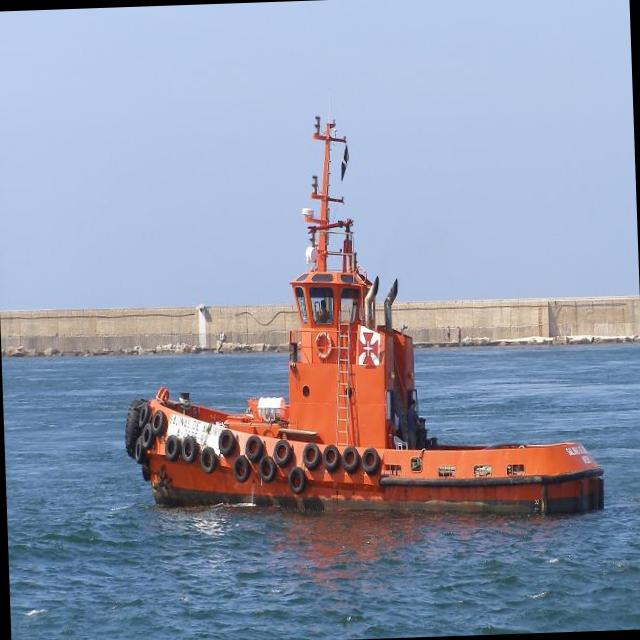Tug: (125, 120, 603, 513)
